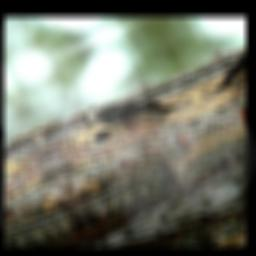Woodpecker: (70, 74, 190, 153)
